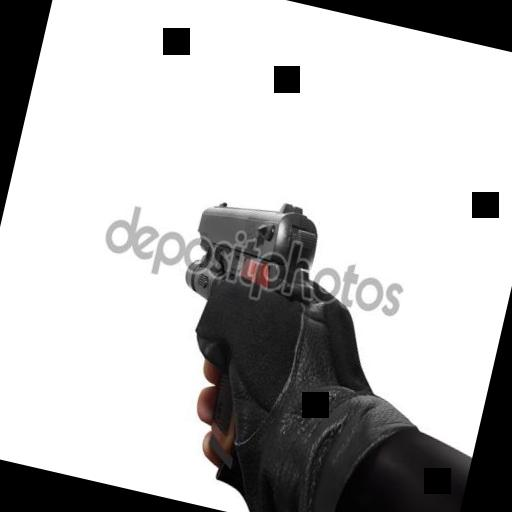Handgun: (146, 183, 324, 477)
